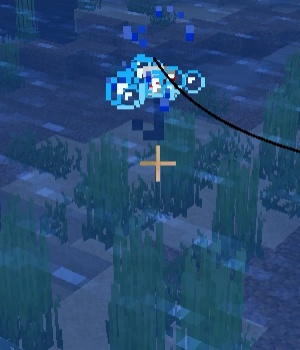up: (130, 69, 173, 143)
